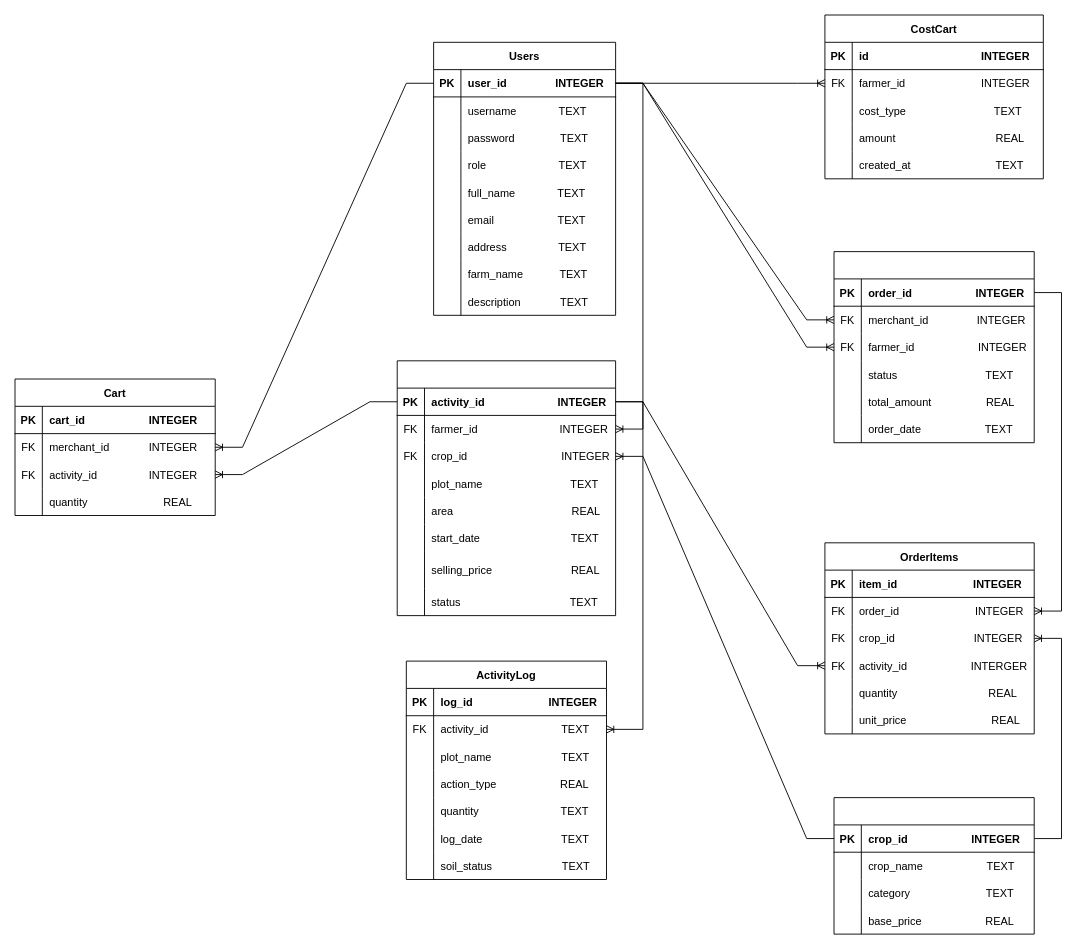
Some shapes in this 1077 by 949 pixel diagram are drawn without their labels. Here are the shapes that lost their labels. From the top down, the box of each, then its label:
(833, 251, 1034, 443): Orders
(396, 360, 616, 616): FarmingActivities
(833, 797, 1034, 934): Crops
